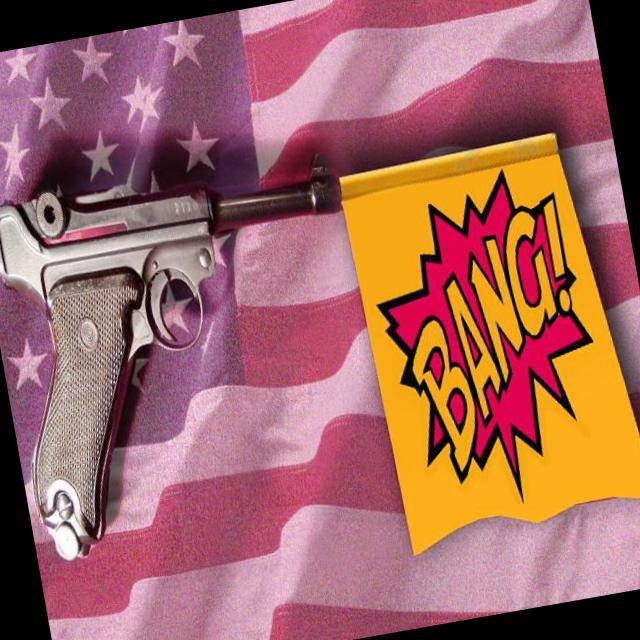Gun: (0, 154, 334, 560)
